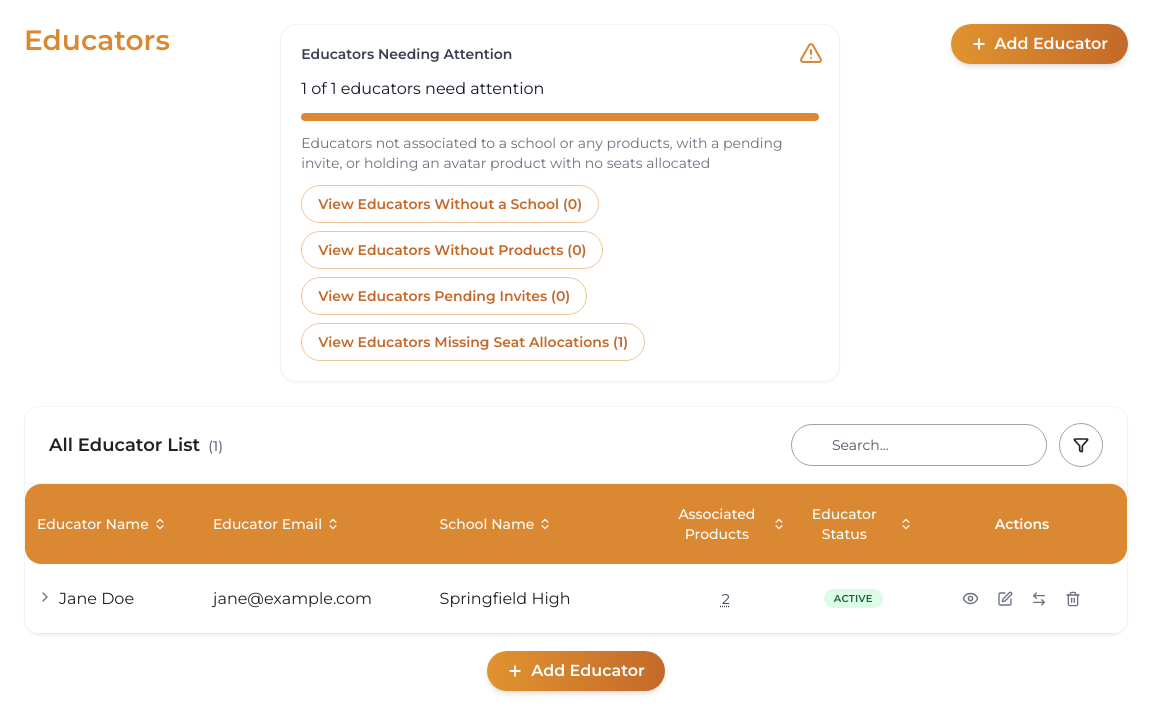
Edit Educator › closes modal on Back
Click the button named "edit".
click(1006, 598)  # box left=992, top=584, right=1020, bottom=612
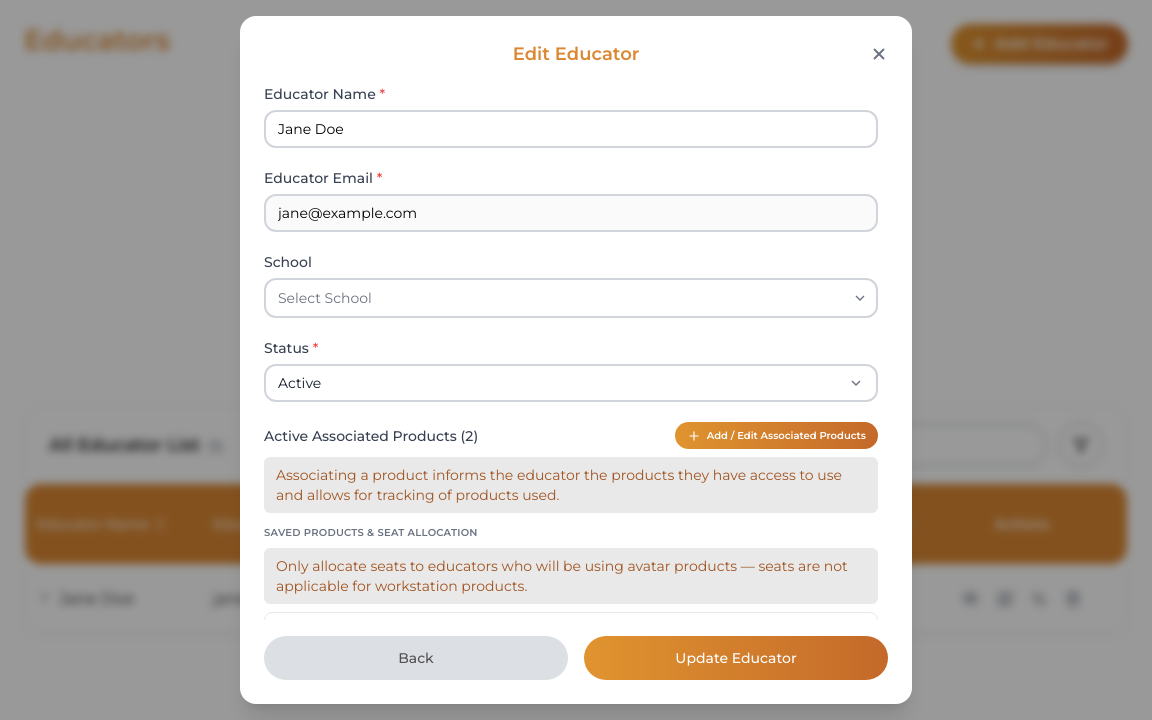
Click the button "Back".
click(416, 658)  # box left=264, top=636, right=568, bottom=680
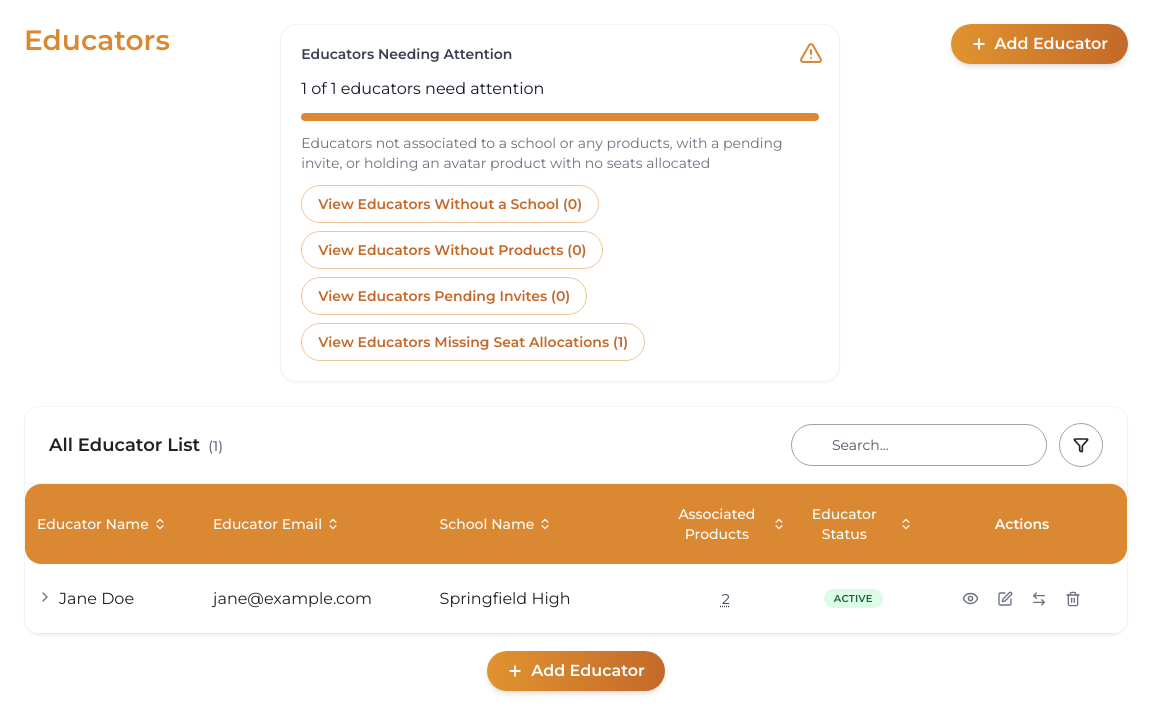
Expected: the heading "Edit Educator" is gone
